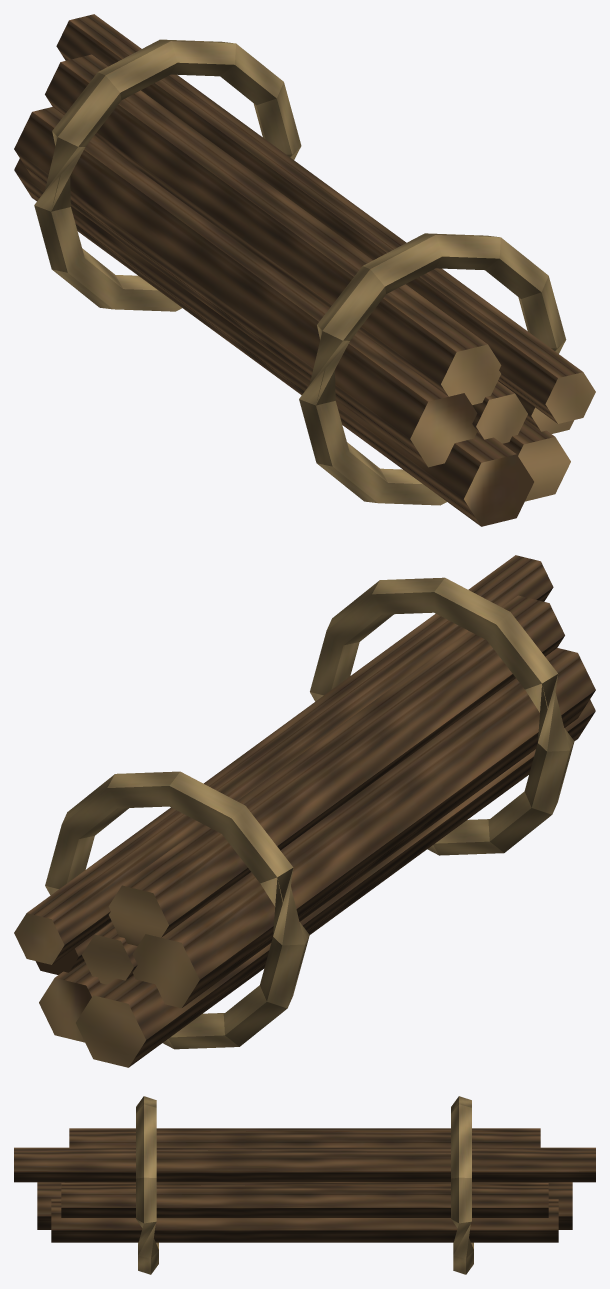
Rendered from prop_takkenbos.glb.
The picture shows the model from 3 angles, top to bottom: view 1: azimuth 30°, elevation 25°; view 2: azimuth 150°, elevation 25°; view 3: azimuth 270°, elevation 25°; orthographic projection. The views are drawn at different scales.
Visible parts, largest first — view 1: prop_takkenbos; view 2: prop_takkenbos; view 3: prop_takkenbos.
Part boxes in pixels (x1,y1,x2,y2): prop_takkenbos: (14,14,595,526); prop_takkenbos: (14,555,595,1067); prop_takkenbos: (14,1096,595,1274).
Bounding box in the file's own units: 0.1709 × 0.1709 × 0.5541.
1 material, 1 textured.
